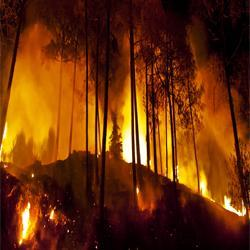fire: (122, 128, 151, 163), (20, 203, 31, 236), (222, 198, 244, 214)
